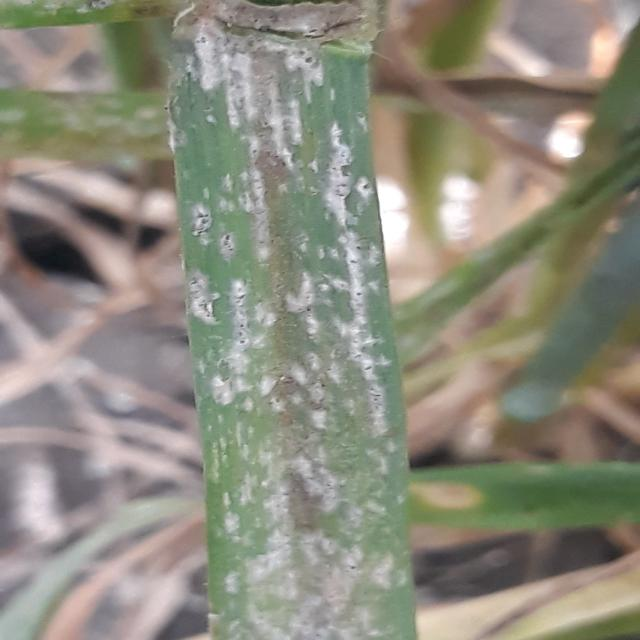powder_mildew: (144, 1, 469, 640)
